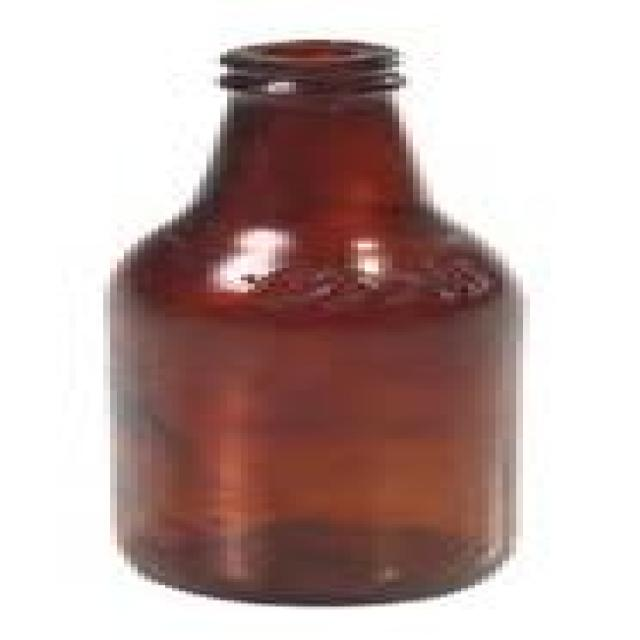glass: (90, 37, 503, 604)
